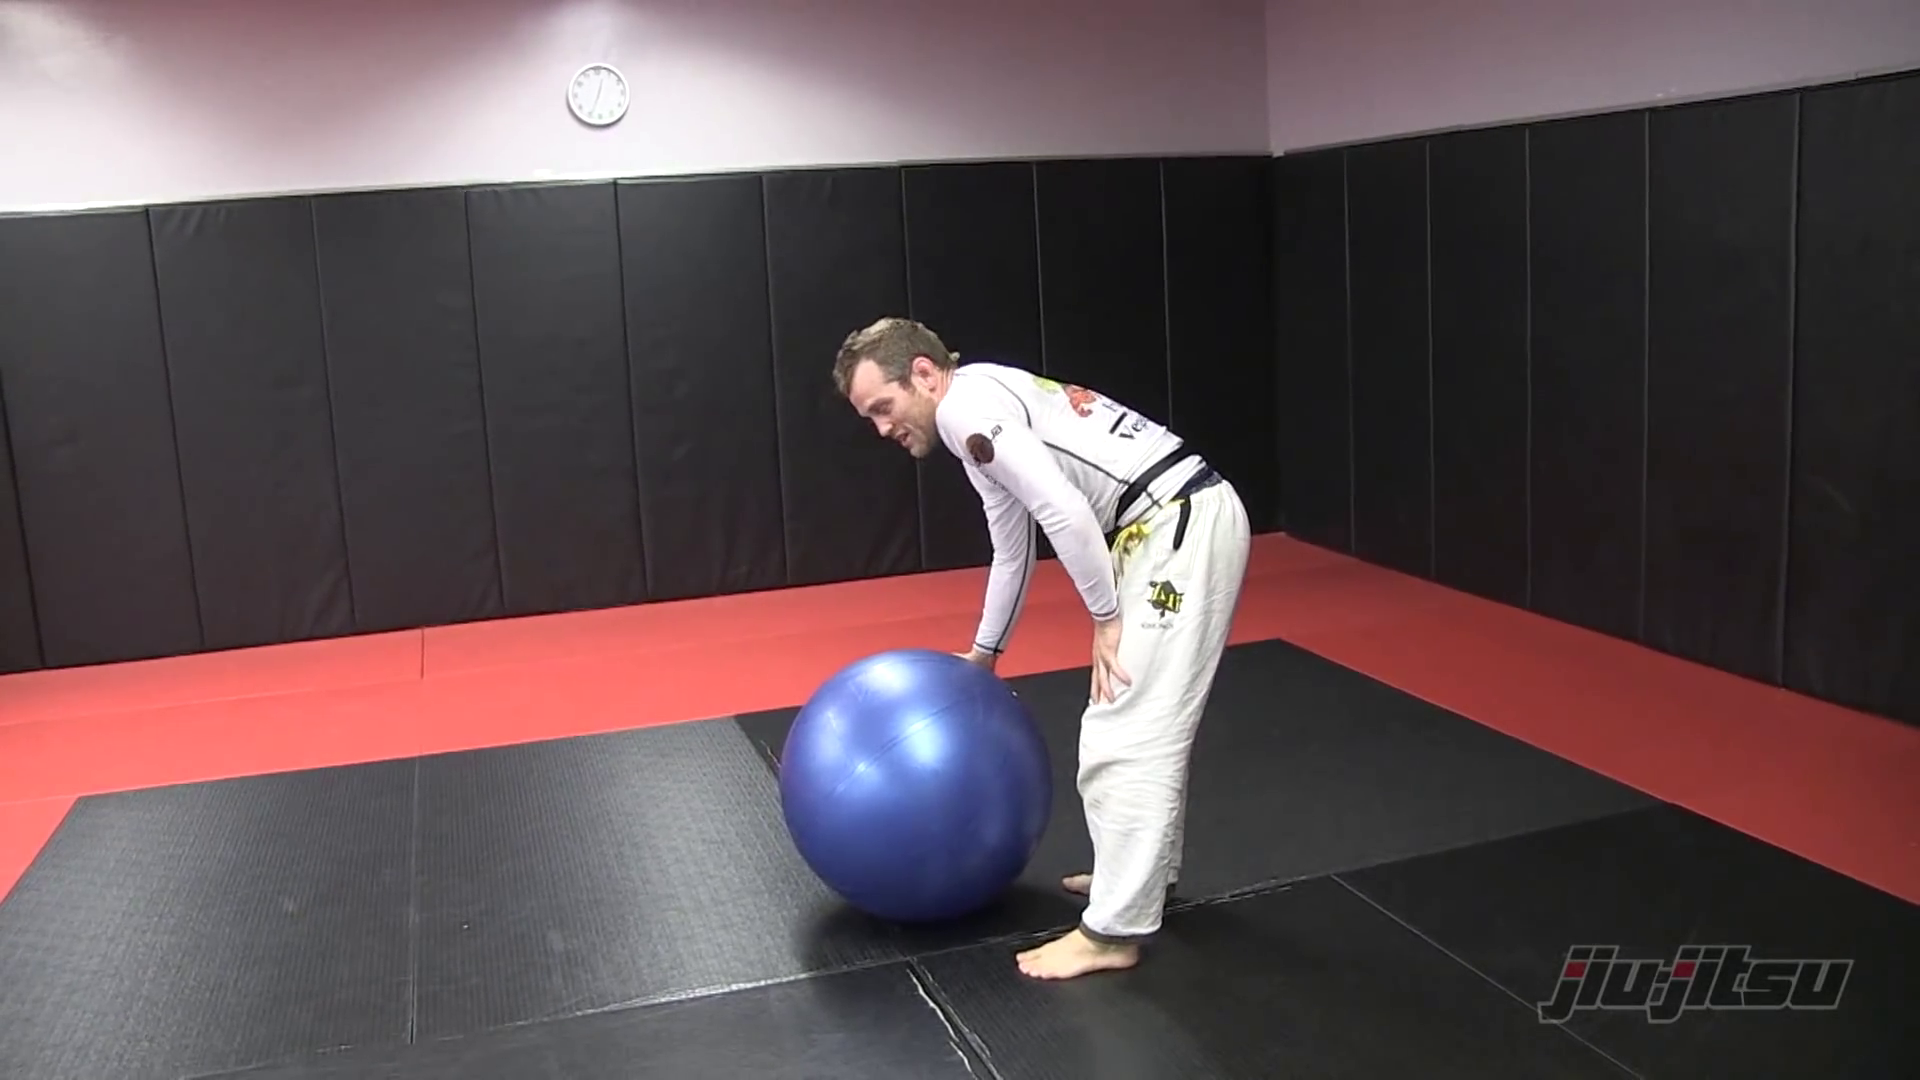yogaball: (754, 632, 1065, 953)
